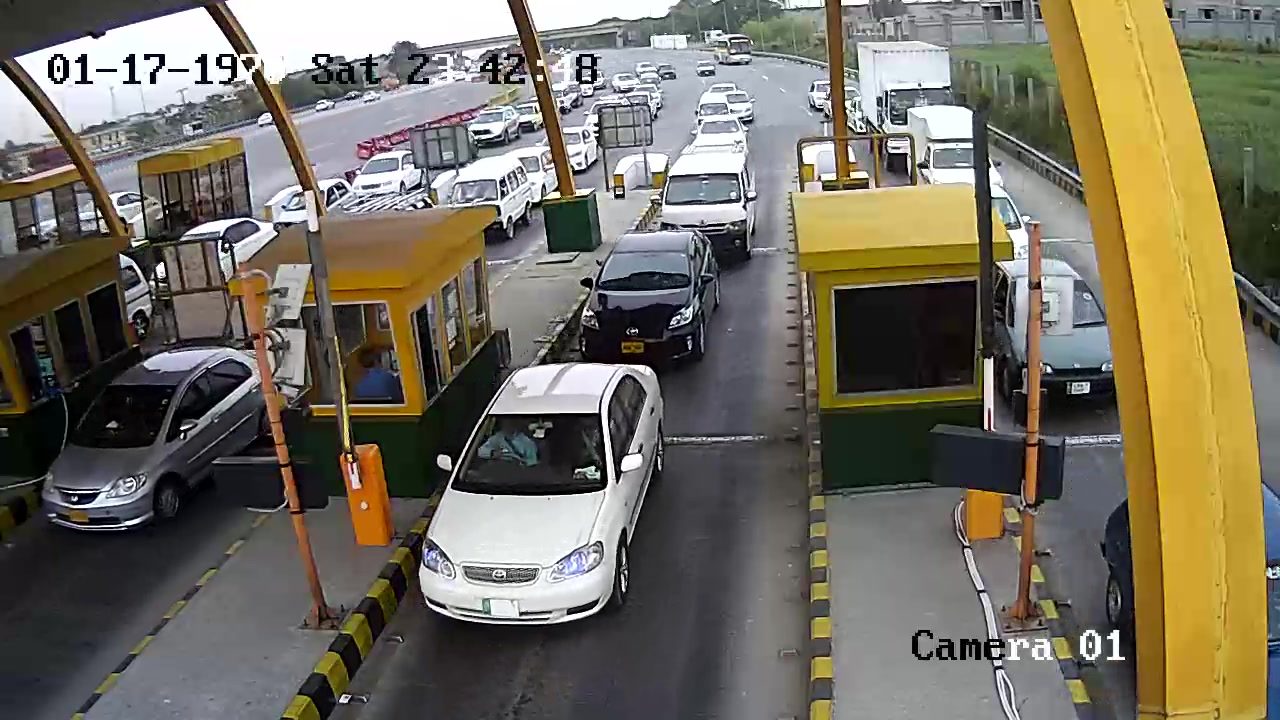F1: (421, 355, 680, 643)
